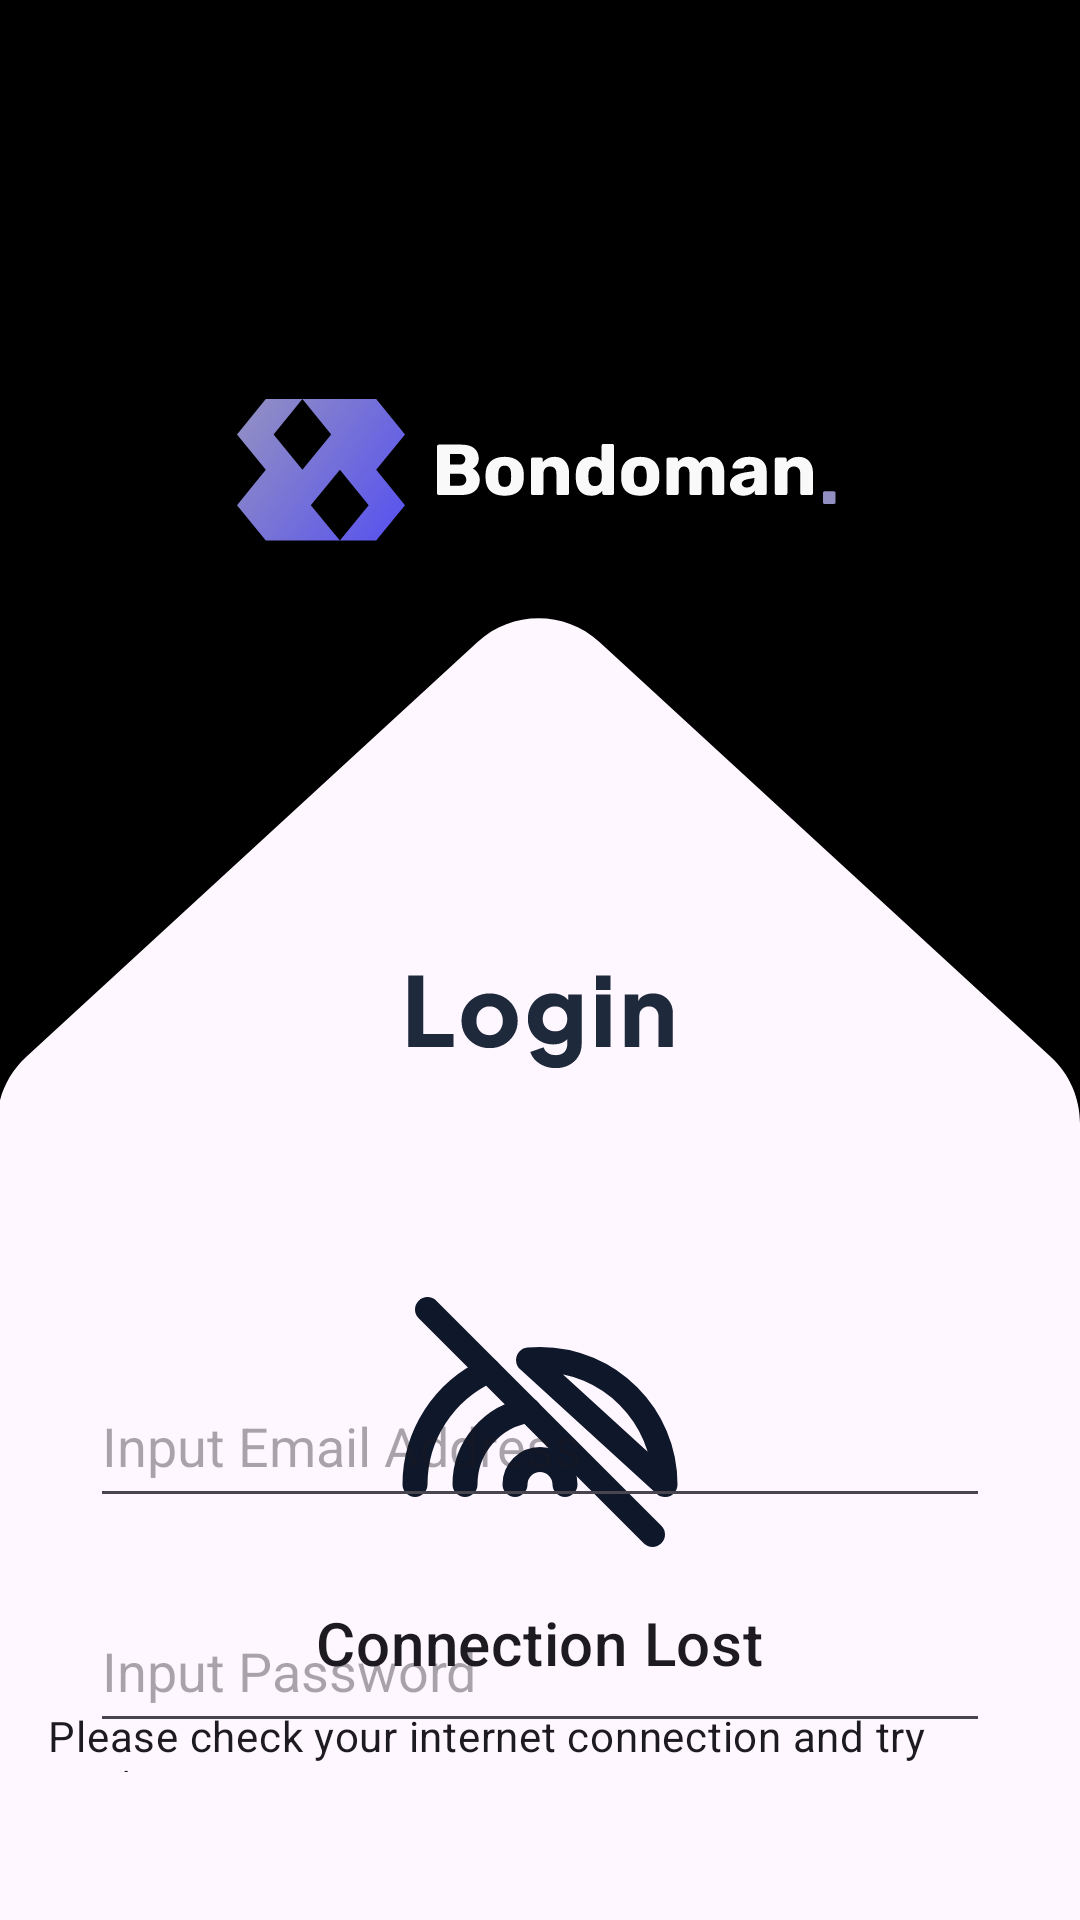

Icons on this 1080px x 1920px Android screen, each with the point to tap as [x,y]:
rainbow off: [540,1422]
